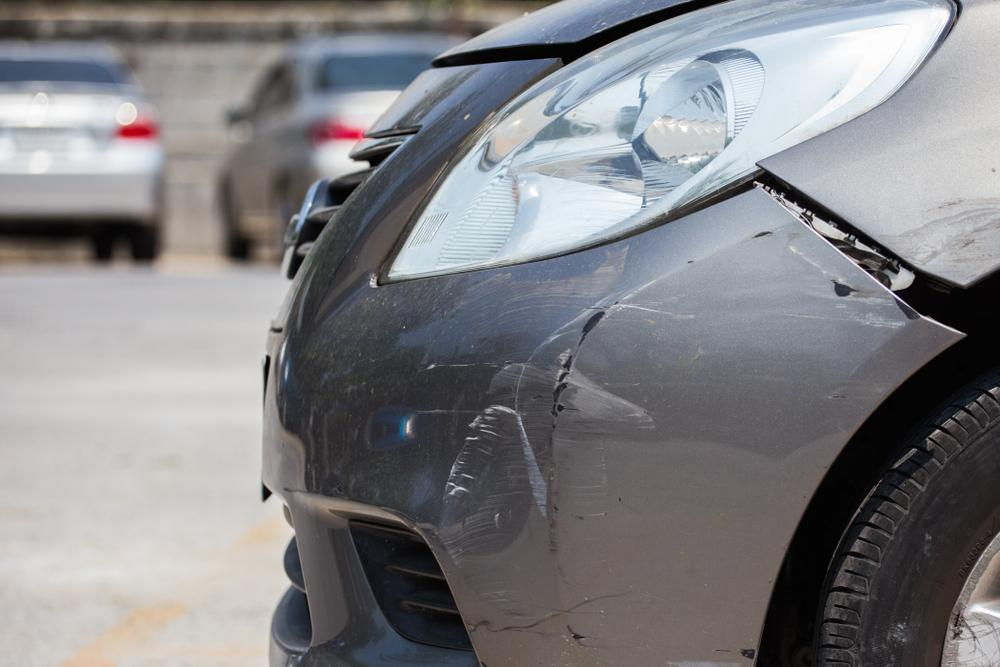scratch: (434, 285, 710, 618), (762, 224, 916, 351), (882, 186, 1000, 272)
